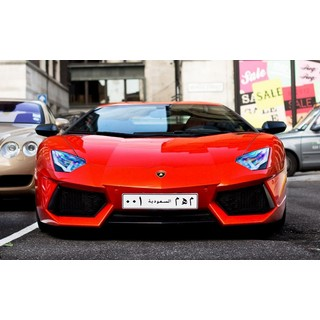car: (35, 102, 297, 235)
